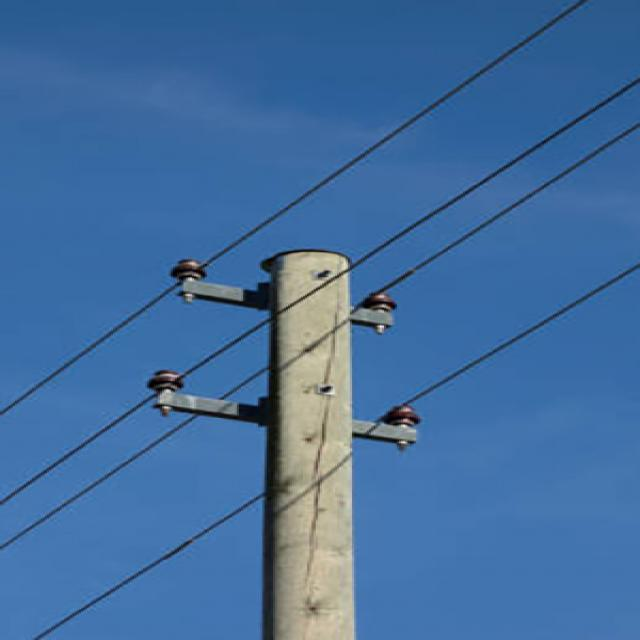pole: (128, 237, 436, 640)
